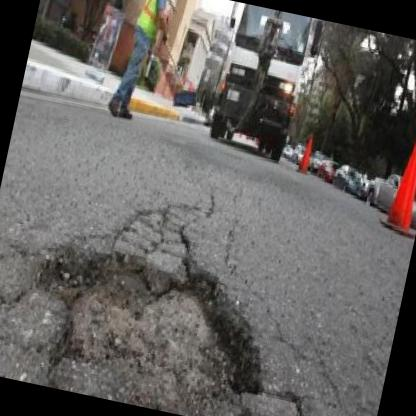pothole: (11, 225, 288, 416)
